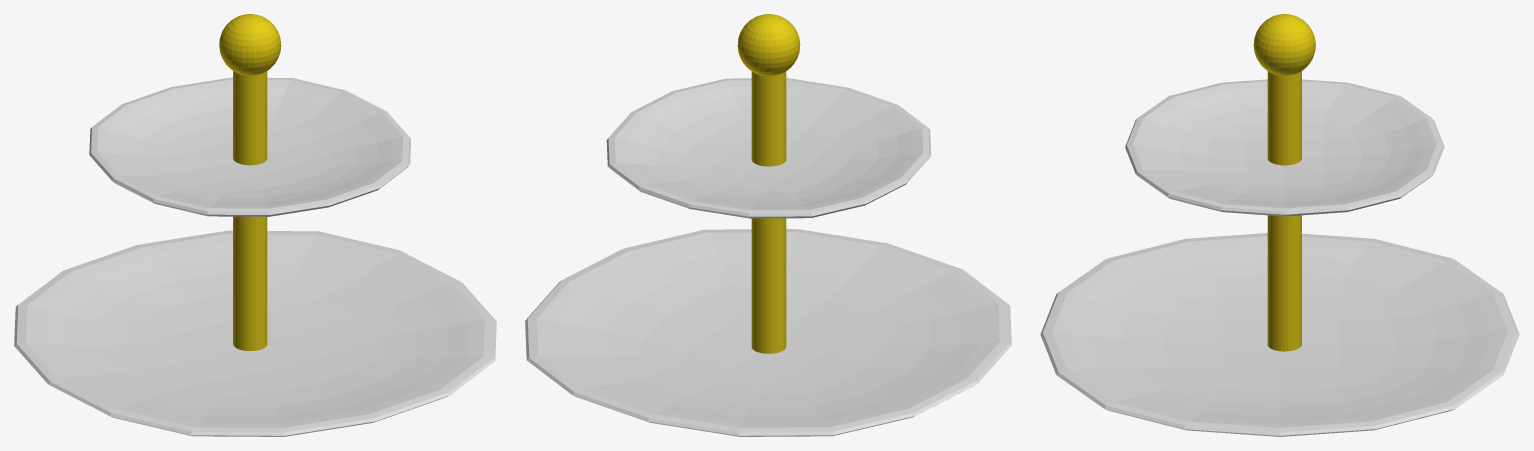
The model's file is Big-Plate.fbx.
The picture shows the model from 3 angles, left to right: view 1: azimuth 30°, elevation 25°; view 2: azimuth 150°, elevation 25°; view 3: azimuth 270°, elevation 25°; orthographic projection.
Visible parts, largest first — view 1: Cube.001, Cube.000, Cylinder, Sphere; view 2: Cube.001, Cube.000, Cylinder, Sphere; view 3: Cube.001, Cube.000, Cylinder, Sphere.
Boxes of the visible parts, bbox=[...] form: Cube.001: bbox=[14, 230, 496, 436]; Cube.000: bbox=[89, 77, 410, 216]; Cylinder: bbox=[233, 71, 267, 350]; Sphere: bbox=[219, 14, 281, 75]; Cube.001: bbox=[525, 229, 1011, 436]; Cube.000: bbox=[606, 78, 931, 218]; Cylinder: bbox=[751, 71, 786, 353]; Sphere: bbox=[737, 14, 800, 76]; Cube.001: bbox=[1040, 233, 1519, 436]; Cube.000: bbox=[1125, 79, 1444, 216]; Cylinder: bbox=[1267, 71, 1301, 351]; Sphere: bbox=[1253, 14, 1315, 75].
Size of the model in its own units: 277 by 214 by 277.
